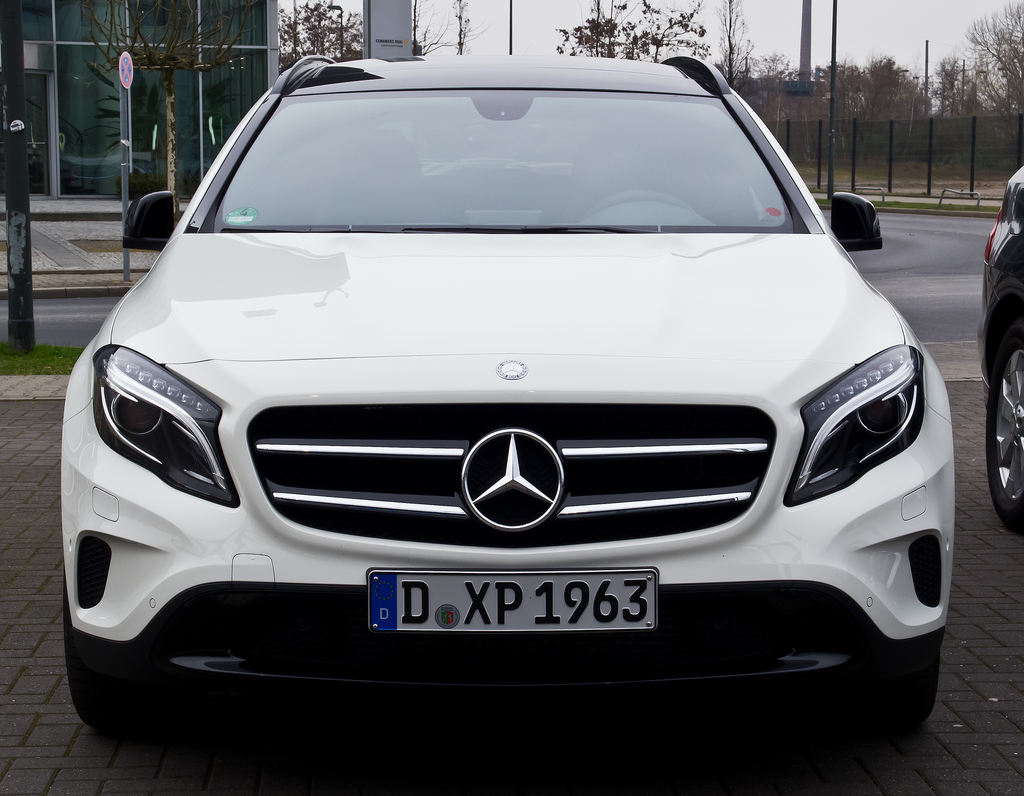Car: (67, 55, 960, 737), (979, 171, 1019, 531)
